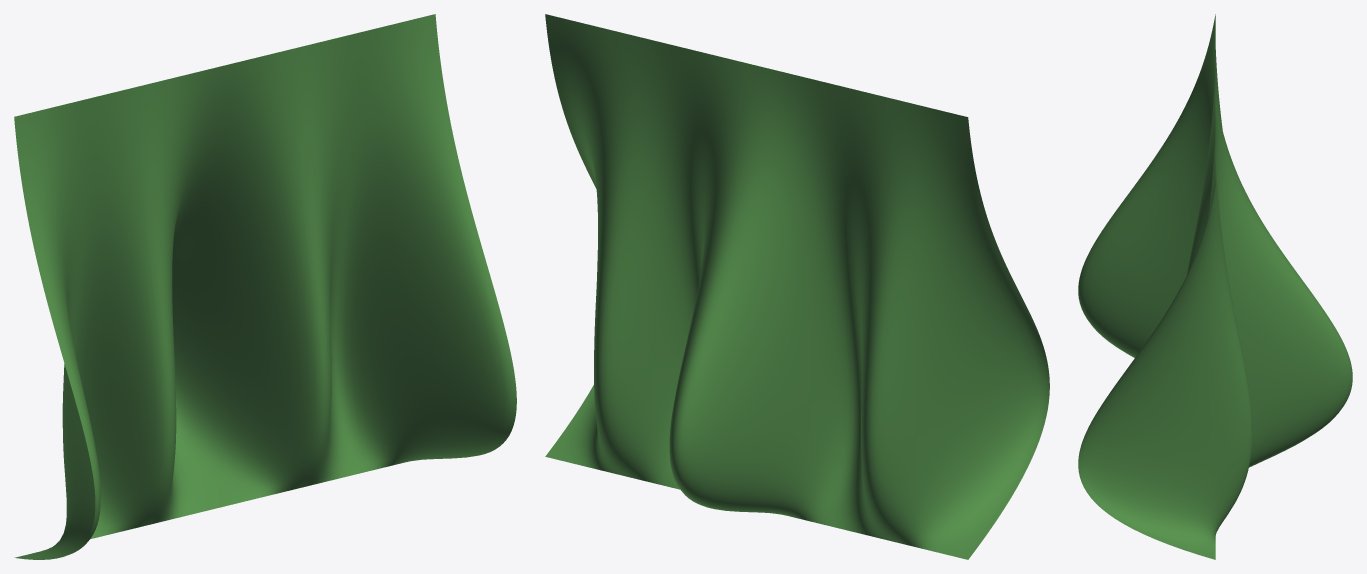
File: ai_backpropagation_ar_universal (2).glb
The picture shows the model from 3 angles, left to right: view 1: azimuth 30°, elevation 25°; view 2: azimuth 150°, elevation 25°; view 3: azimuth 270°, elevation 25°; orthographic projection. The views are drawn at different scales.
Visible parts, largest first — view 1: ai_backpropagation_ar; view 2: ai_backpropagation_ar; view 3: ai_backpropagation_ar.
Boxes of the visible parts, x1,y1,x2,y2 form: ai_backpropagation_ar: [14, 14, 516, 559]; ai_backpropagation_ar: [545, 14, 1049, 559]; ai_backpropagation_ar: [1078, 14, 1352, 559].
Bounding box in the file's own units: 1 × 1 × 0.6681.
